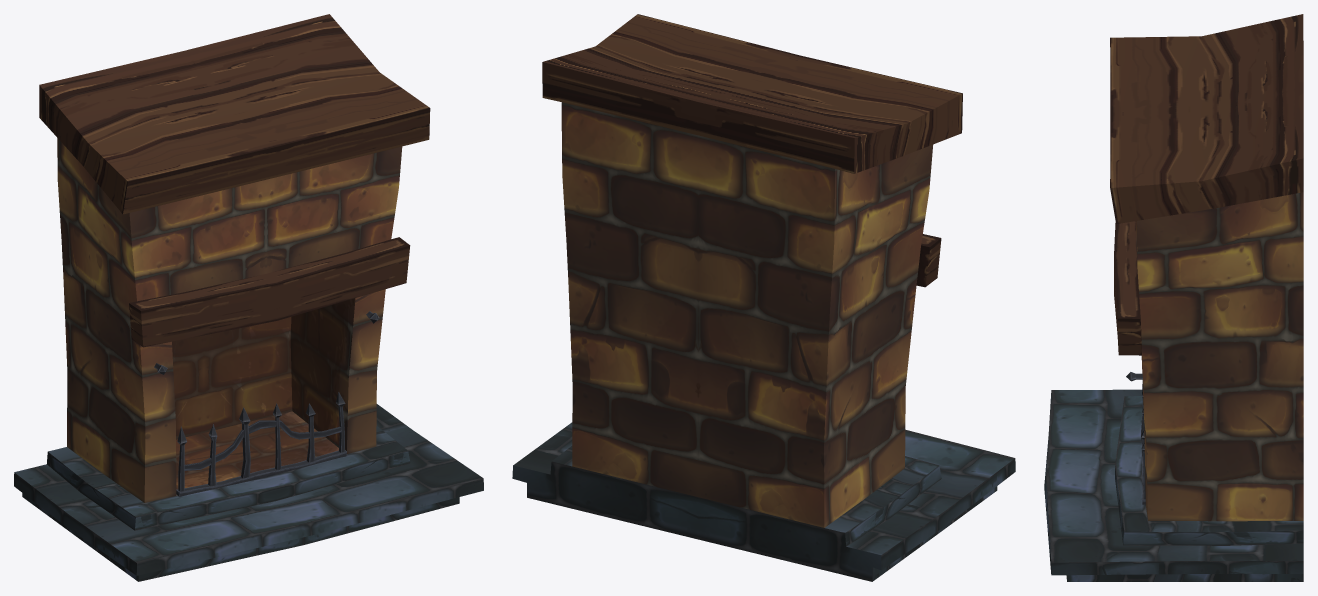
The model's file is SM_PROP_fireplace_interior.fbx.
3 views of the same model, side by side, from view 1: azimuth 30°, elevation 25°; view 2: azimuth 150°, elevation 25°; view 3: azimuth 270°, elevation 25° (orthographic). The views are drawn at different scales.
Visible parts, largest first — view 1: SM_PROP_fireplace_interior, SM_PROP_fireplace_bars_interior; view 2: SM_PROP_fireplace_interior; view 3: SM_PROP_fireplace_interior, SM_PROP_fireplace_bars_interior.
Boxes of the visible parts, x1,y1,x2,y2 form: SM_PROP_fireplace_interior: (14, 14, 483, 581); SM_PROP_fireplace_bars_interior: (176, 392, 347, 496); SM_PROP_fireplace_interior: (512, 14, 1015, 581); SM_PROP_fireplace_interior: (1044, 14, 1303, 581); SM_PROP_fireplace_bars_interior: (1141, 384, 1145, 504).
Bounding box in the file's own units: 230 × 258 × 146.
